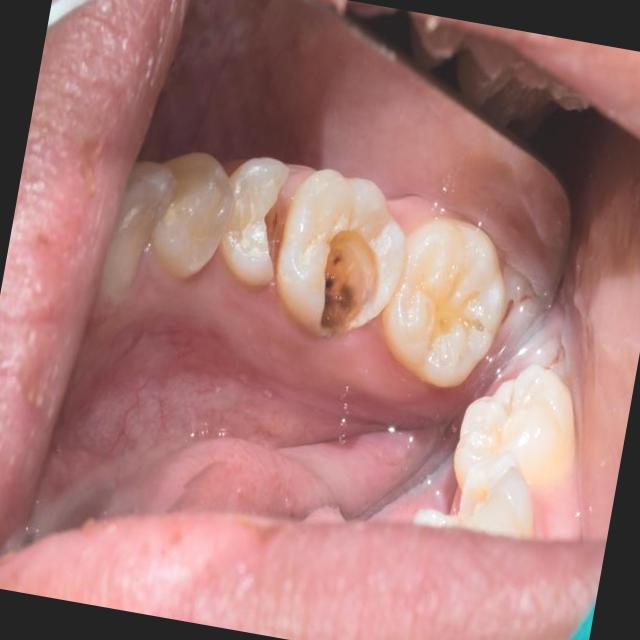caries: (262, 162, 418, 346), (210, 151, 296, 293)
